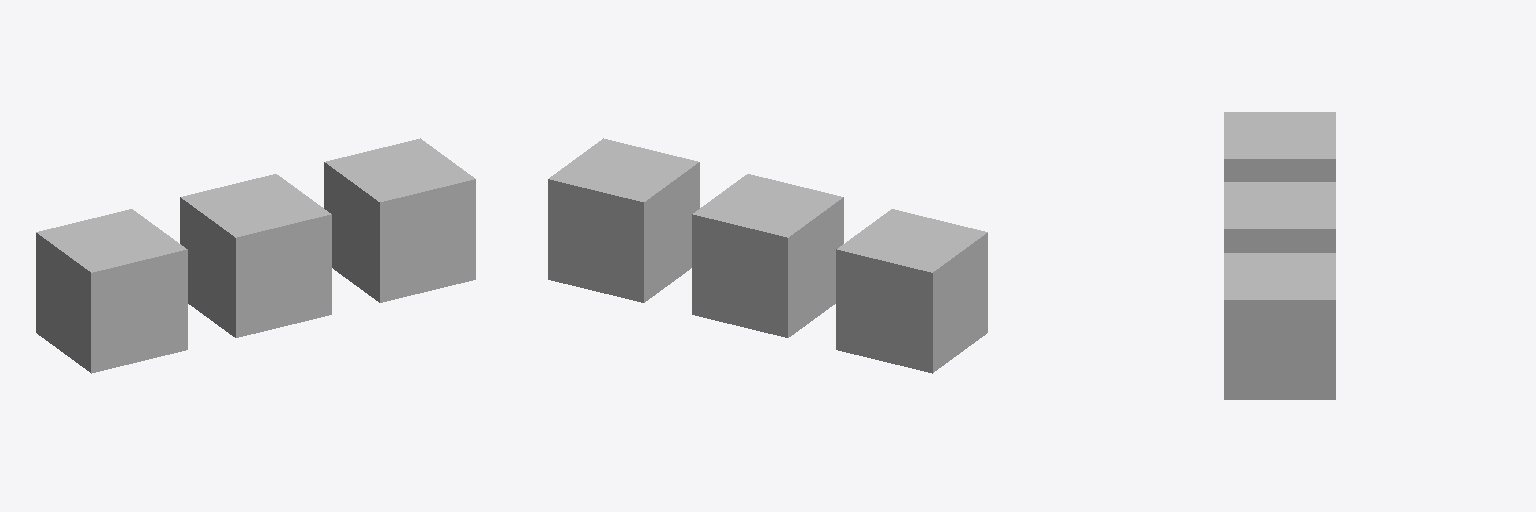
File: Demo.obj
3 renders of one model, left to right at view 1: azimuth 30°, elevation 25°; view 2: azimuth 150°, elevation 25°; view 3: azimuth 270°, elevation 25°, orthographic.
Visible parts, largest first — view 1: Cube.002, Cube.001, Cube; view 2: Cube.002, Cube.001, Cube; view 3: Cube.001, Cube, Cube.002.
Boxes of the visible parts, x1=… form: Cube.002: x1=36, y1=209, x2=187, y2=373; Cube.001: x1=324, y1=138, x2=475, y2=302; Cube: x1=180, y1=174, x2=331, y2=337; Cube.002: x1=836, y1=209, x2=987, y2=373; Cube.001: x1=548, y1=138, x2=699, y2=302; Cube: x1=692, y1=174, x2=843, y2=337; Cube.001: x1=1224, y1=253, x2=1335, y2=399; Cube: x1=1224, y1=182, x2=1335, y2=252; Cube.002: x1=1224, y1=112, x2=1335, y2=181.
Bounding box in the file's own units: 8 × 2 × 2.